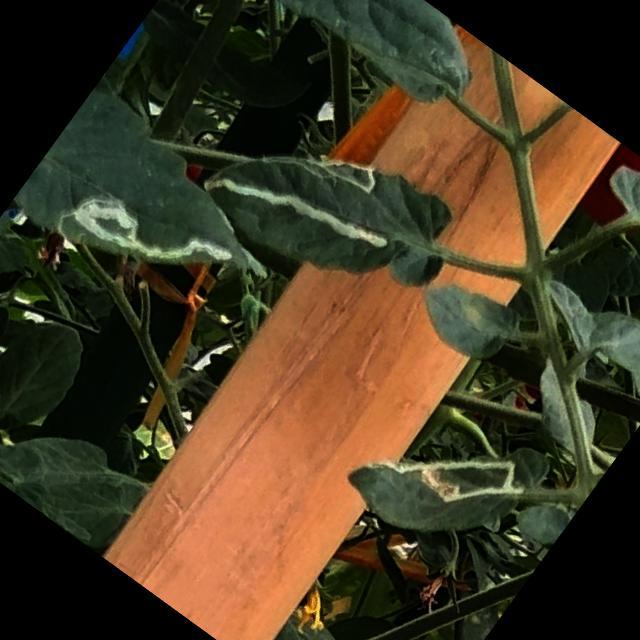Tomato healthy leaf: (0, 295, 101, 445)
Tomato target spot leaf: (187, 76, 478, 346), (8, 79, 297, 348), (331, 364, 557, 586)
